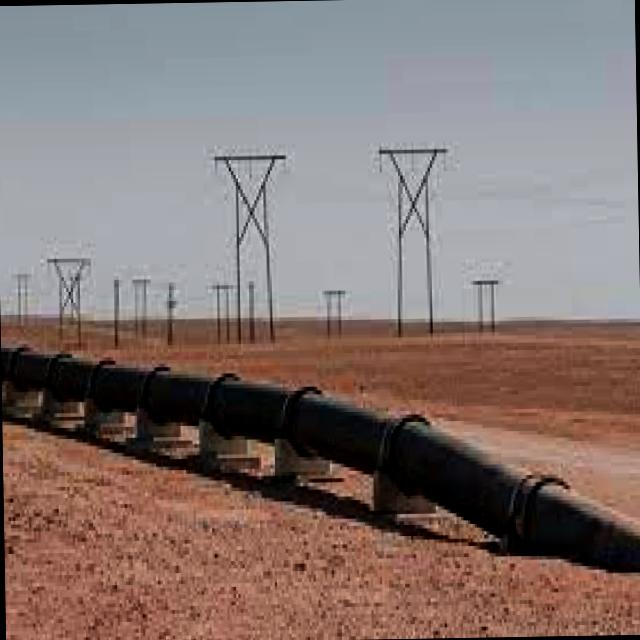gas: (0, 348, 640, 570)
